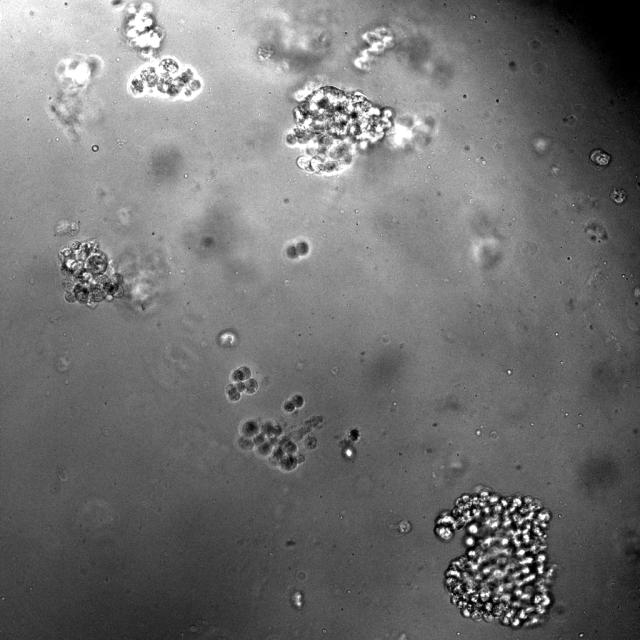organoid: (434, 488, 554, 627), (286, 79, 434, 174), (122, 2, 202, 101), (236, 416, 323, 473), (49, 54, 103, 138), (59, 240, 122, 308), (354, 26, 394, 70), (225, 365, 259, 402), (340, 427, 361, 460), (589, 148, 611, 170), (285, 239, 309, 259), (216, 328, 239, 348), (54, 219, 79, 236), (282, 394, 304, 413), (610, 187, 627, 205), (257, 43, 274, 61), (289, 589, 304, 609), (392, 520, 412, 534), (297, 571, 306, 580)
